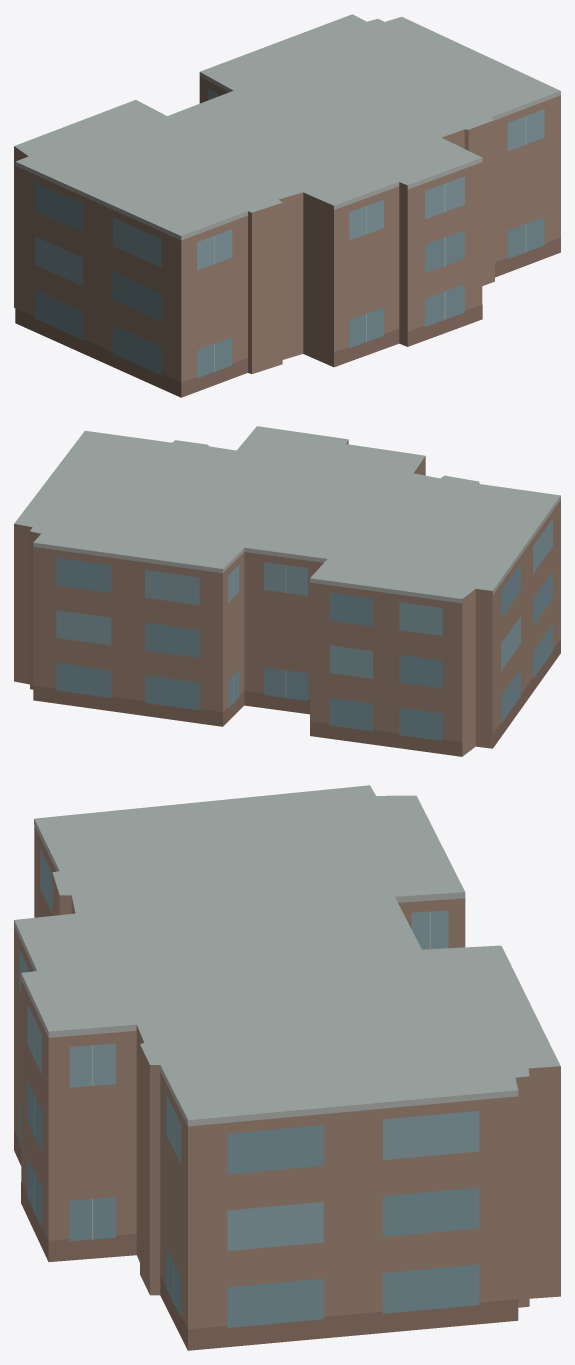
File: survey-upis-32525308.glb
3 views of the same model, one above another, from view 1: azimuth 30°, elevation 25°; view 2: azimuth 150°, elevation 25°; view 3: azimuth 270°, elevation 25° (orthographic). The views are drawn at different scales.
Visible parts, largest first — view 1: survey-upis-32525308.tmp; view 2: survey-upis-32525308.tmp; view 3: survey-upis-32525308.tmp.
Part boxes in pixels (x1=…): survey-upis-32525308.tmp: x1=14, y1=14, x2=560, y2=397; survey-upis-32525308.tmp: x1=14, y1=426, x2=560, y2=756; survey-upis-32525308.tmp: x1=14, y1=785, x2=560, y2=1350.
Bounding box in the file's own units: 28.55 × 9.15 × 19.69.
